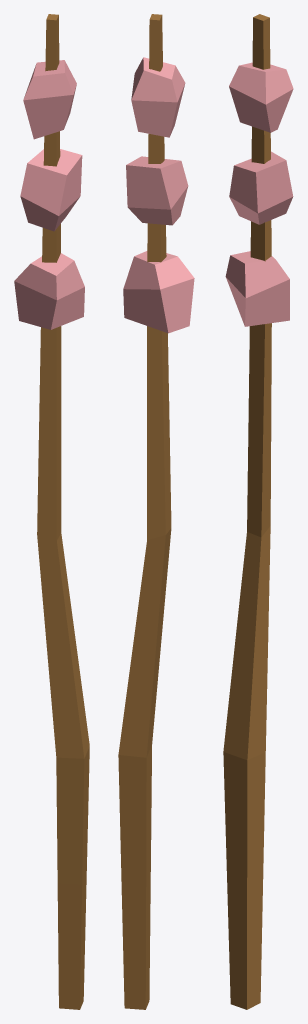
The model's file is props-stick-marshmellows.glb.
3 views of the same model, side by side, from view 1: azimuth 30°, elevation 25°; view 2: azimuth 210°, elevation 25°; view 3: azimuth 270°, elevation 25° (orthographic).
Parts seen in each view (by area): view 1: stick-marshmellows; view 2: stick-marshmellows; view 3: stick-marshmellows.
Boxes of the visible parts, x1,y1,x2,y2 form: stick-marshmellows: (14, 14, 89, 1009); stick-marshmellows: (118, 14, 194, 1009); stick-marshmellows: (223, 14, 293, 1009).
Size of the model in its own units: 0.0739 by 1.13 by 0.0735.
